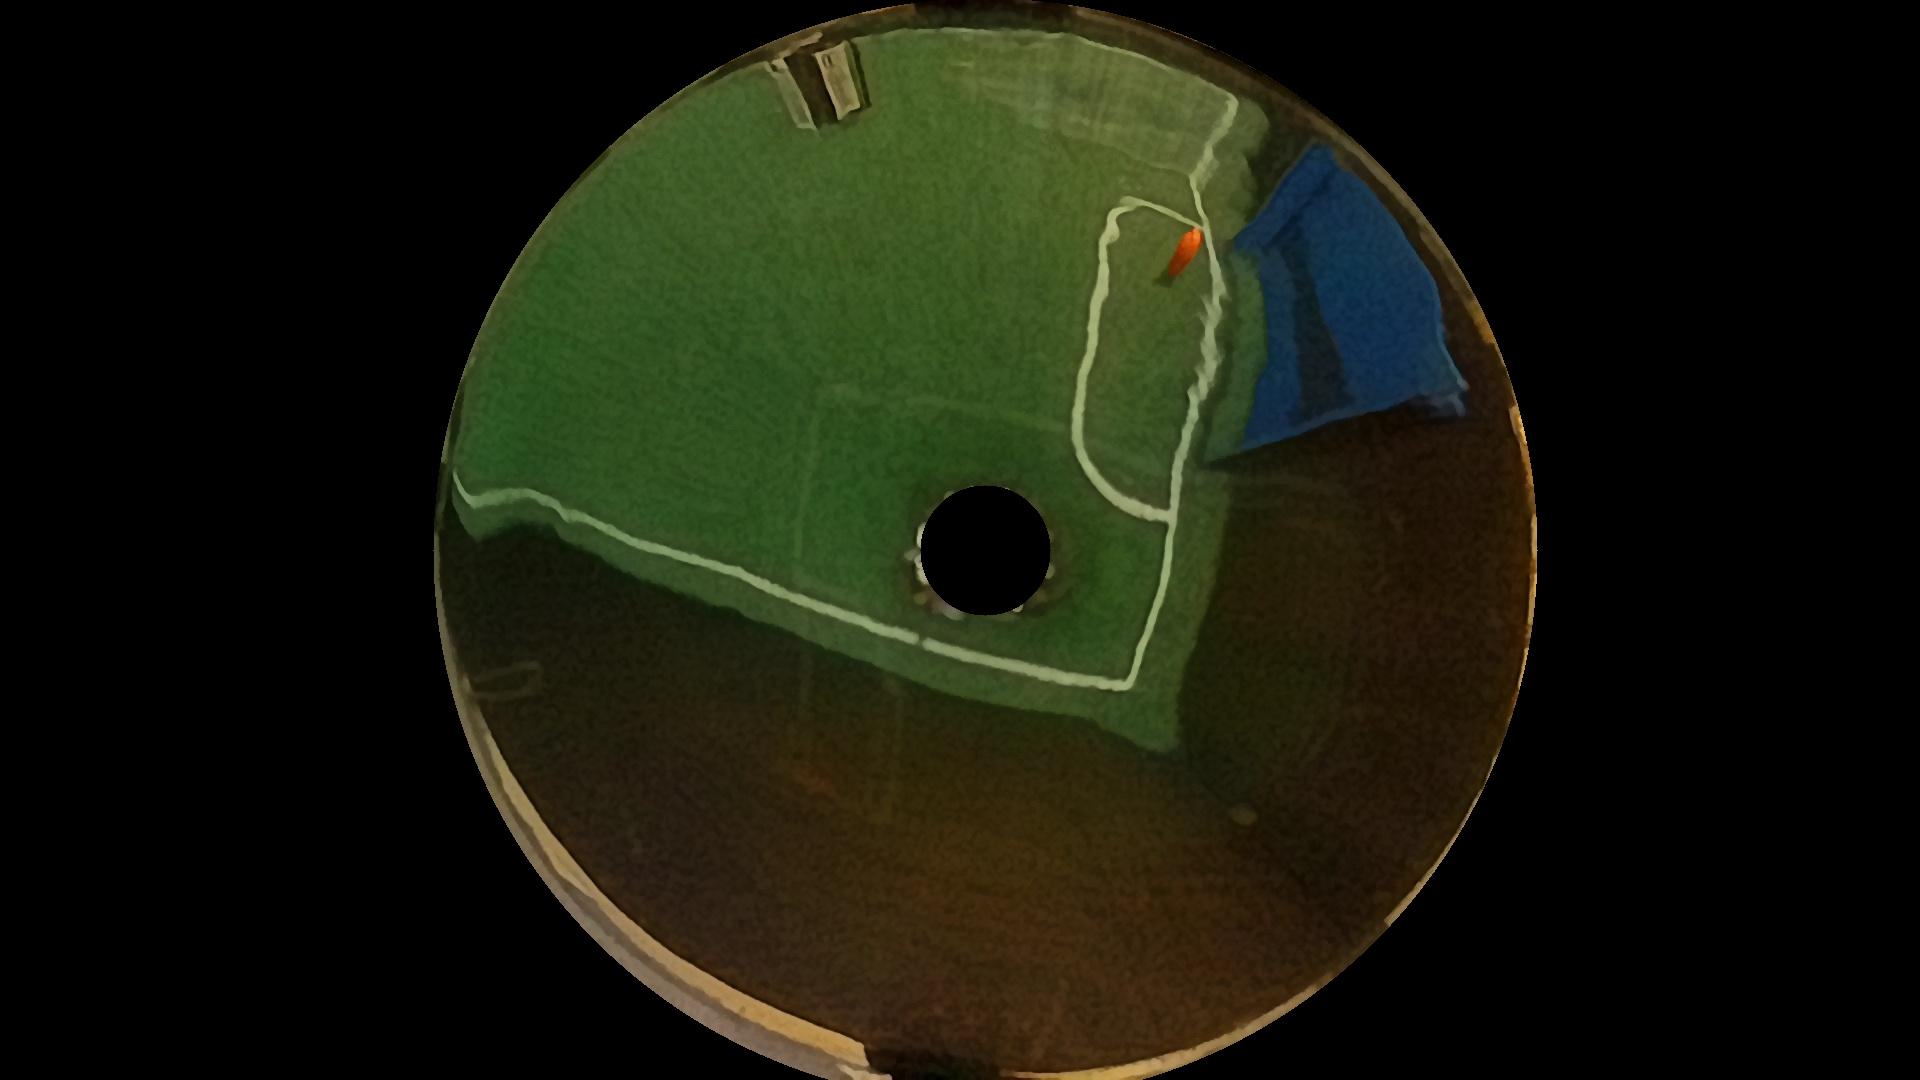ball: (1158, 222, 1221, 273)
blue-goal: (1213, 187, 1428, 419)
robots: (746, 26, 890, 132)
